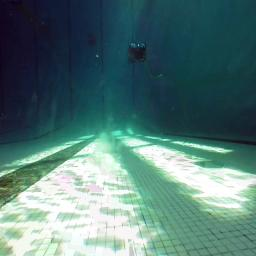Full: (87, 39, 97, 46)
front: (128, 41, 148, 65)
